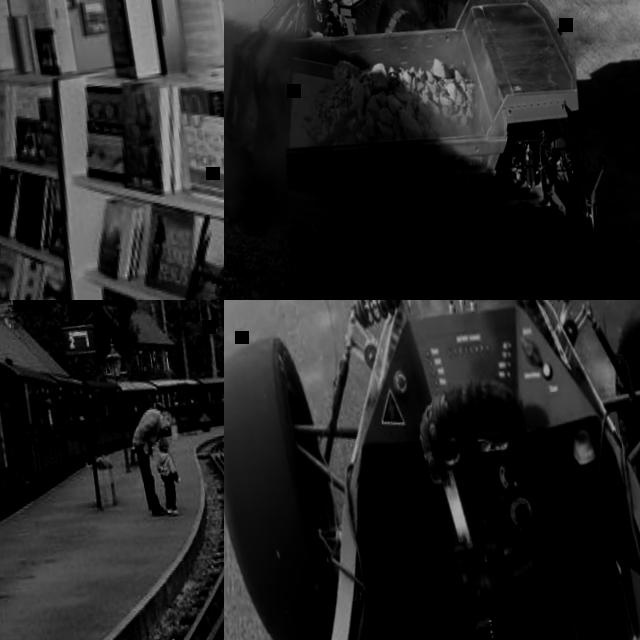NO-Hardhat: (158, 436, 170, 450), (162, 410, 171, 426)
NO-Mask: (158, 417, 167, 431), (166, 446, 171, 452)
NO-Safety Vest: (132, 406, 163, 448), (157, 450, 175, 476)
Person: (126, 403, 184, 518), (153, 434, 185, 515)
machinery: (259, 0, 634, 300), (224, 0, 485, 244)
vehicle: (224, 300, 640, 640)
